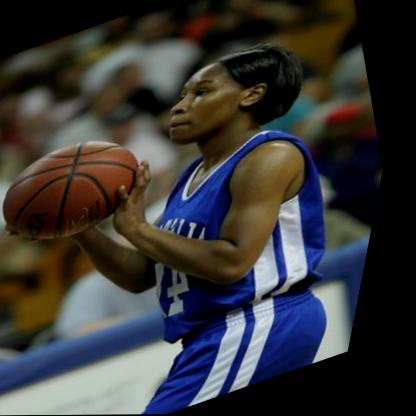basketball: (0, 120, 171, 256)
